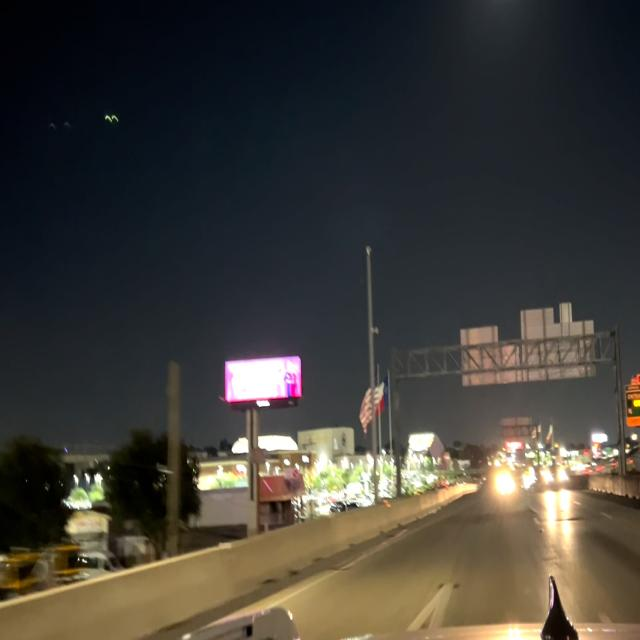back-of-sign: (455, 298, 598, 393), (498, 412, 536, 446)
